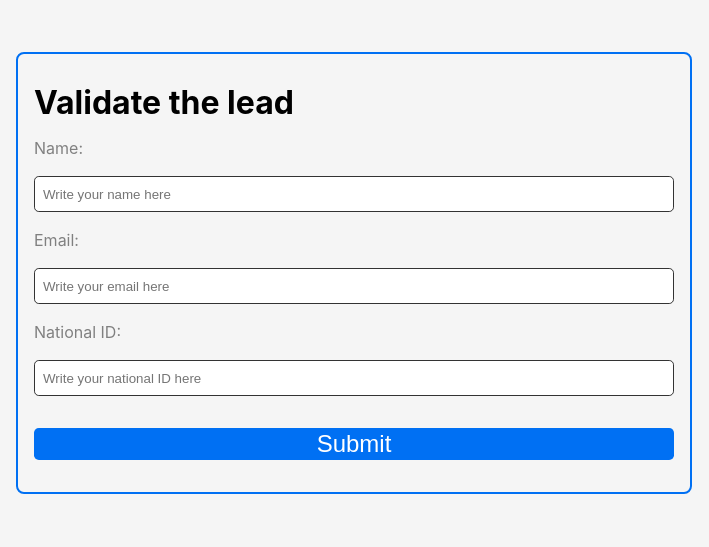
Test: LeadValidation screen tests › should test the lead validation form submission with empty fields
This screenshot has width=709, height=547.
Step 1. Click the button with test id "dti-lead-validation-submit" → (354, 444), box [34,428,674,460]
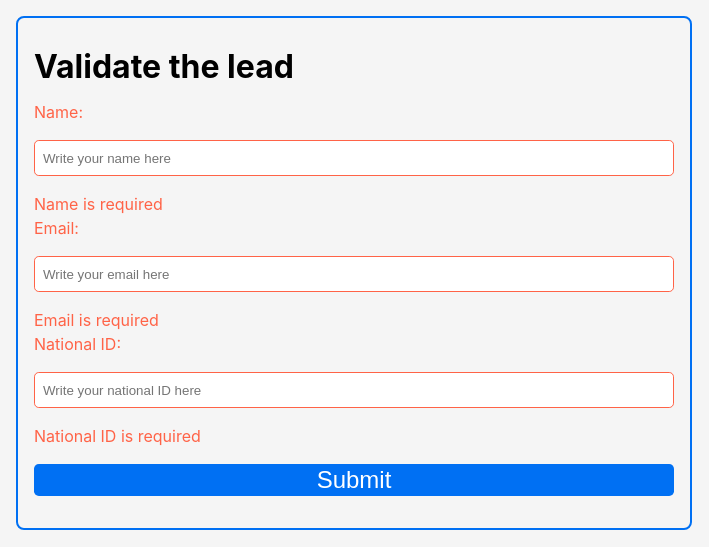
Expected: the label with test id "dti-error-message-email" reads "Email is required", [34,310,159,330]
